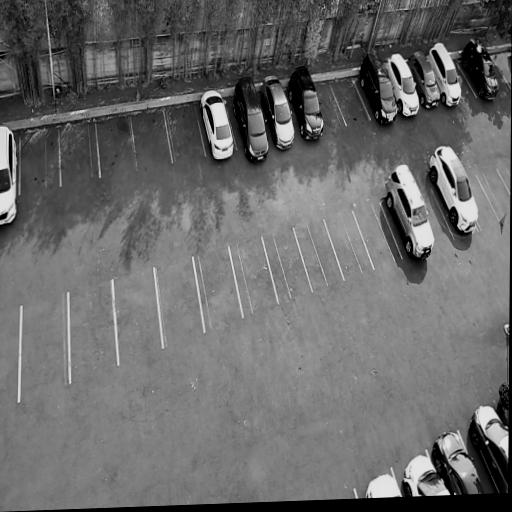Car: (380, 160, 439, 266), (423, 136, 481, 238), (460, 390, 509, 493), (426, 420, 487, 494), (227, 69, 273, 163), (354, 43, 402, 128), (195, 80, 239, 166), (283, 58, 326, 144), (256, 68, 299, 154), (425, 36, 466, 113), (457, 34, 502, 102), (395, 447, 454, 497), (383, 47, 422, 118), (405, 47, 446, 114), (355, 461, 406, 498), (0, 122, 17, 229)
Space Available: (20, 293, 70, 400), (69, 278, 119, 383), (112, 266, 162, 363), (154, 257, 204, 347), (192, 246, 243, 331), (229, 238, 278, 316), (294, 218, 345, 292), (262, 228, 312, 302), (323, 209, 373, 280), (352, 201, 403, 268), (19, 124, 61, 192), (130, 108, 172, 170), (96, 115, 138, 177), (59, 122, 99, 185), (163, 104, 205, 162), (329, 76, 370, 125), (475, 169, 510, 222), (420, 186, 455, 239), (468, 173, 500, 223), (316, 79, 347, 127), (452, 59, 477, 98)
